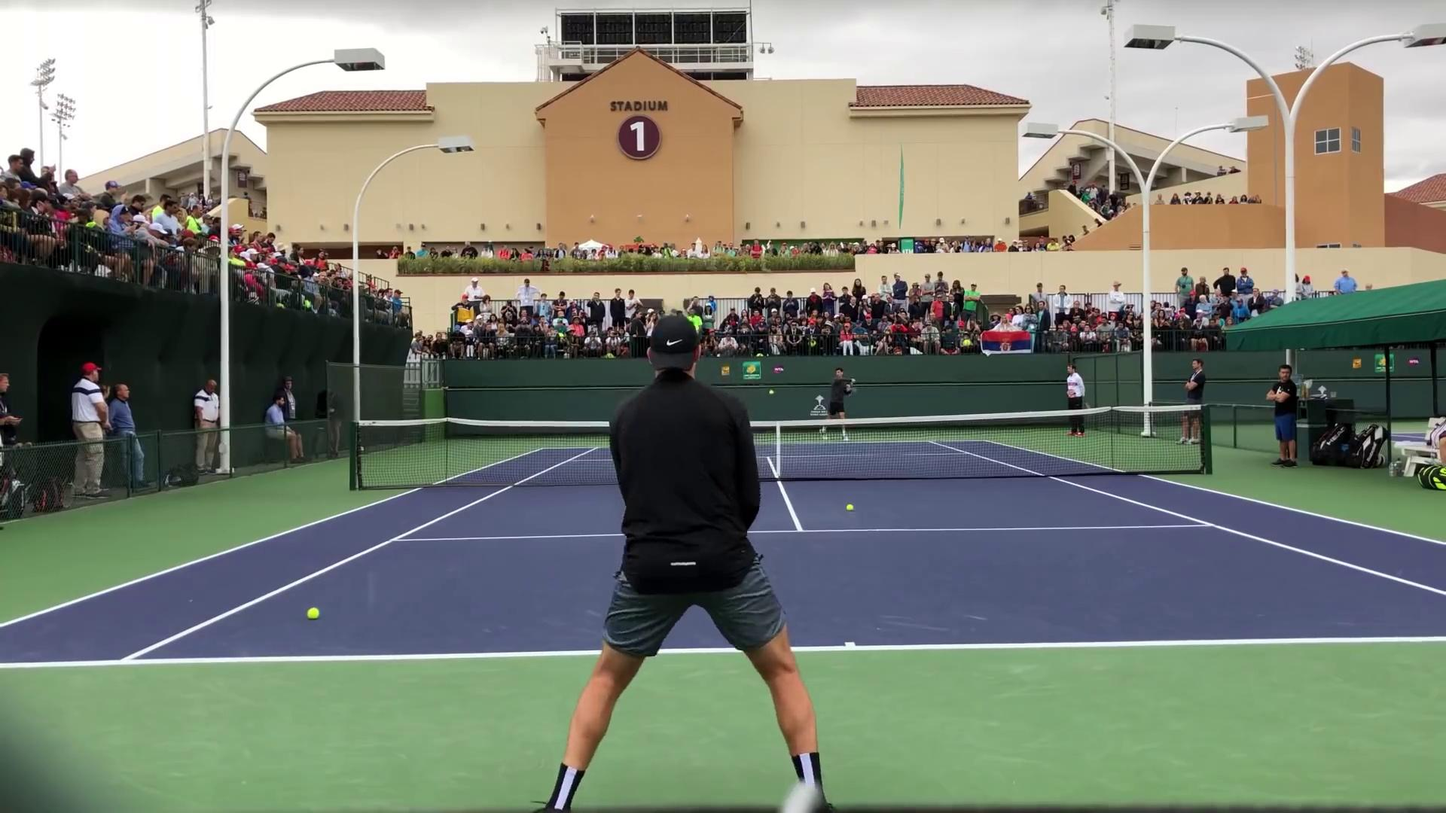ball: (306, 606, 319, 620), (847, 503, 855, 512), (768, 388, 775, 397)
